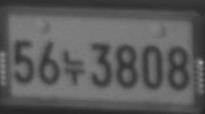0: (141, 46, 163, 88)
3: (90, 42, 112, 87)
5: (13, 39, 33, 83)
6: (38, 42, 60, 84)
8: (115, 45, 138, 87), (167, 46, 189, 89)
누: (62, 47, 85, 85)
